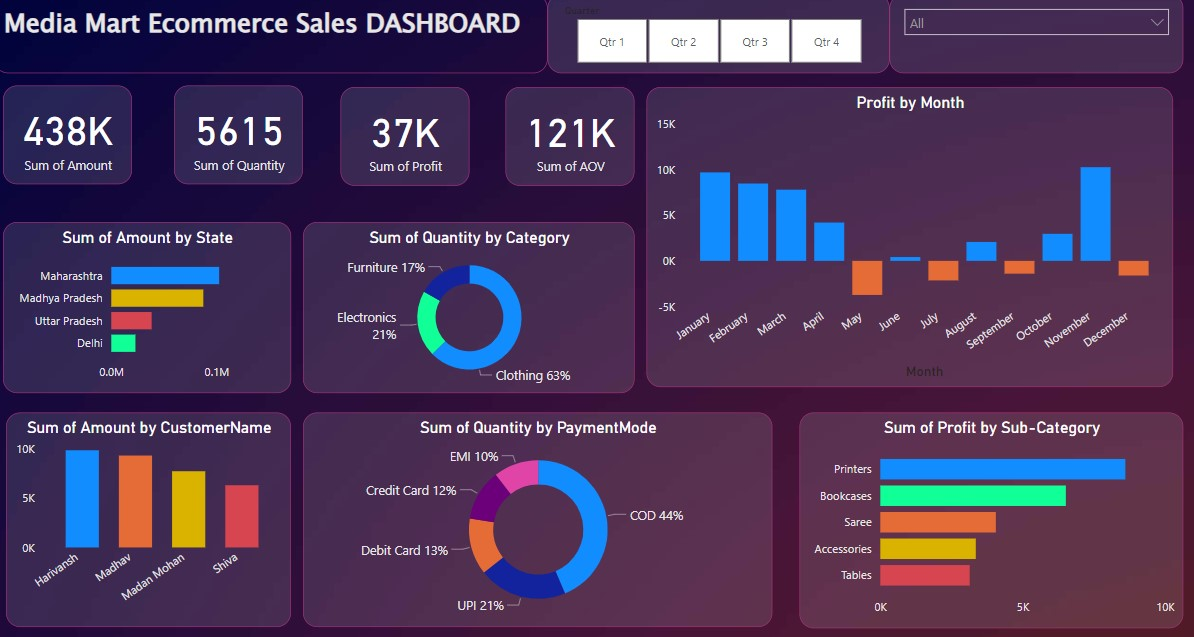

This screenshot's page, from the dashboard's own definition file:
{"tool":"powerbi","page":{"name":"Page 1","canvas":[1280,720],"ordinal":0},"visuals":[{"type":"textbox","box":[0,0,586.5,84.2],"z":0},{"type":"columnChart","title":"Profit by Month","fields":{"Y":["Details.Profit"],"Category":["Orders.Order Date.Variation.Date Hierarchy.Month"]},"box":[691.4,98.5,557.9,317.9],"z":1000},{"type":"barChart","fields":{"Category":["Details.Sub-Category"],"Y":["Details.Profit"]},"box":[853.5,443.4,406.9,228.9],"z":2000},{"type":"donutChart","fields":{"Category":["Details.Category"],"Y":["Details.Quantity"]},"box":[327.4,241.6,351.3,181.2],"z":3000},{"type":"donutChart","fields":{"Y":["Details.Quantity"],"Category":["Details.PaymentMode"]},"box":[327.4,443.4,497.5,227.3],"z":4000},{"type":"card","fields":{"Values":["Details.Amount"]},"box":[9.5,97,136.7,104.9],"z":5000},{"type":"card","fields":{"Values":["Details.Quantity"]},"box":[190.7,97,136.7,104.9],"z":6000},{"type":"card","fields":{"Values":["Details.Profit"]},"box":[367.2,98.5,136.7,104.9],"z":7000},{"type":"card","fields":{"Values":["Details.AOV"]},"box":[542,98.5,136.7,104.9],"z":8000},{"type":"barChart","fields":{"Category":["Orders.State"],"Y":["Details.Amount"]},"box":[9.5,241.6,305.2,181.2],"z":9000},{"type":"columnChart","fields":{"Category":["Orders.CustomerName"],"Y":["Details.Amount"]},"box":[12.7,443.4,302,227.3],"z":10000},{"type":"slicer","fields":{"Values":["Orders.Order Date.Variation.Date Hierarchy.Quarter"]},"box":[586.5,0,362.4,84.2],"z":11000},{"type":"slicer","fields":{"Values":["Orders.State"]},"box":[948.9,0,311.5,84.2],"z":12000}]}

Visuals, with their boxes on the page's 1280x720 design canvas (x1, y1, x2, y2). These are canvas units, not pixel positions in the 1194x637 screenshot, which may show the page scaled, cropped or inside an application window:
textbox: box(0, 0, 586, 84)
"Profit by Month" columnChart: box(691, 98, 1249, 416)
barChart - Details.Sub-Category x Details.Profit: box(854, 443, 1260, 672)
donutChart - Details.Category x Details.Quantity: box(327, 242, 679, 423)
donutChart - Details.Quantity x Details.PaymentMode: box(327, 443, 825, 671)
card - Details.Amount: box(10, 97, 146, 202)
card - Details.Quantity: box(191, 97, 327, 202)
card - Details.Profit: box(367, 98, 504, 203)
card - Details.AOV: box(542, 98, 679, 203)
barChart - Orders.State x Details.Amount: box(10, 242, 315, 423)
columnChart - Orders.CustomerName x Details.Amount: box(13, 443, 315, 671)
slicer - Orders.Order Date.Variation.Date Hierarchy.Quarter: box(586, 0, 949, 84)
slicer - Orders.State: box(949, 0, 1260, 84)
